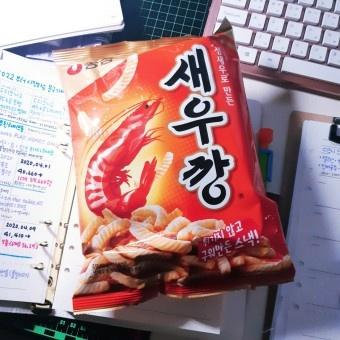snack: (51, 18, 297, 317)
